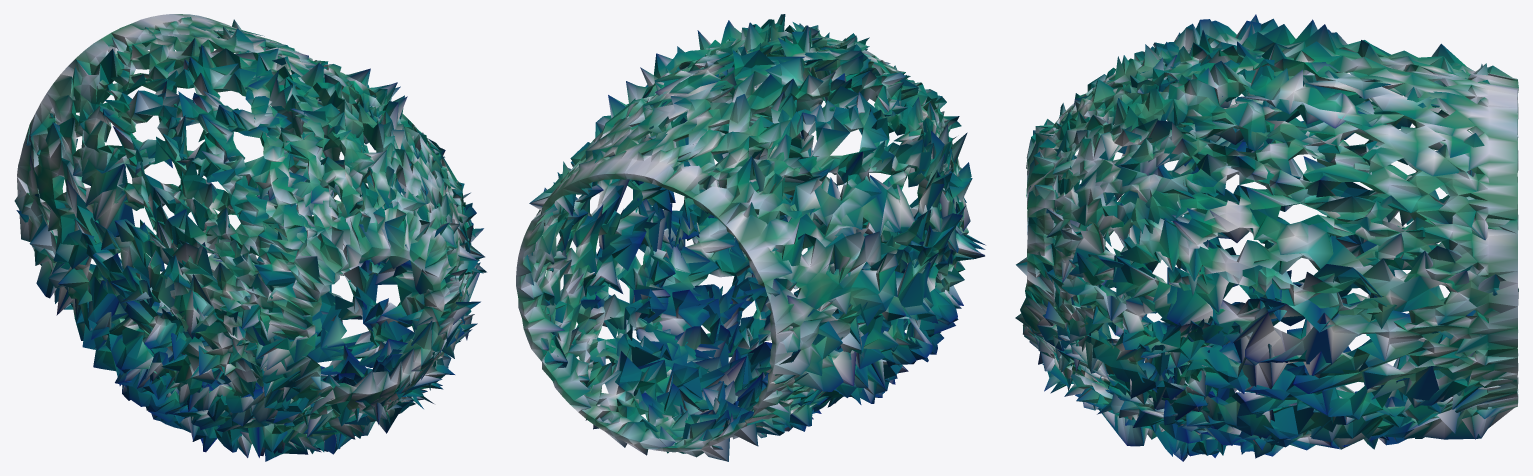
Rendered from lamp_shade_14_final300.obj.
3 views of the same model, side by side, from view 1: azimuth 30°, elevation 25°; view 2: azimuth 150°, elevation 25°; view 3: azimuth 270°, elevation 25° (orthographic). The views are drawn at different scales.
Bounding box in the file's own units: 1.33 × 1.34 × 1.53.
